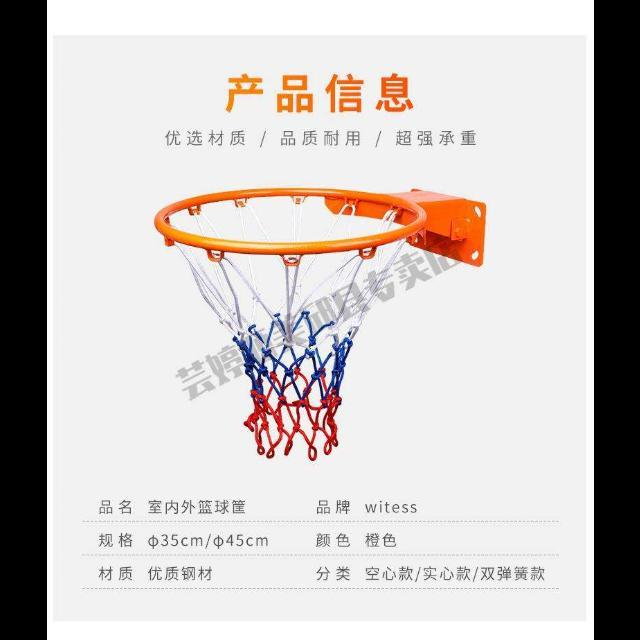rim: (152, 188, 424, 460)
